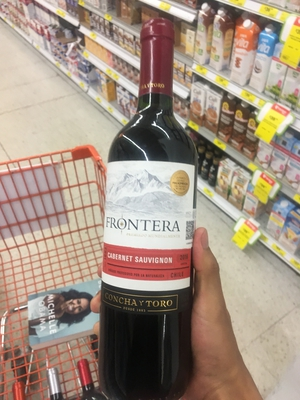frontera cabernet sauvignon: (92, 31, 216, 377)
